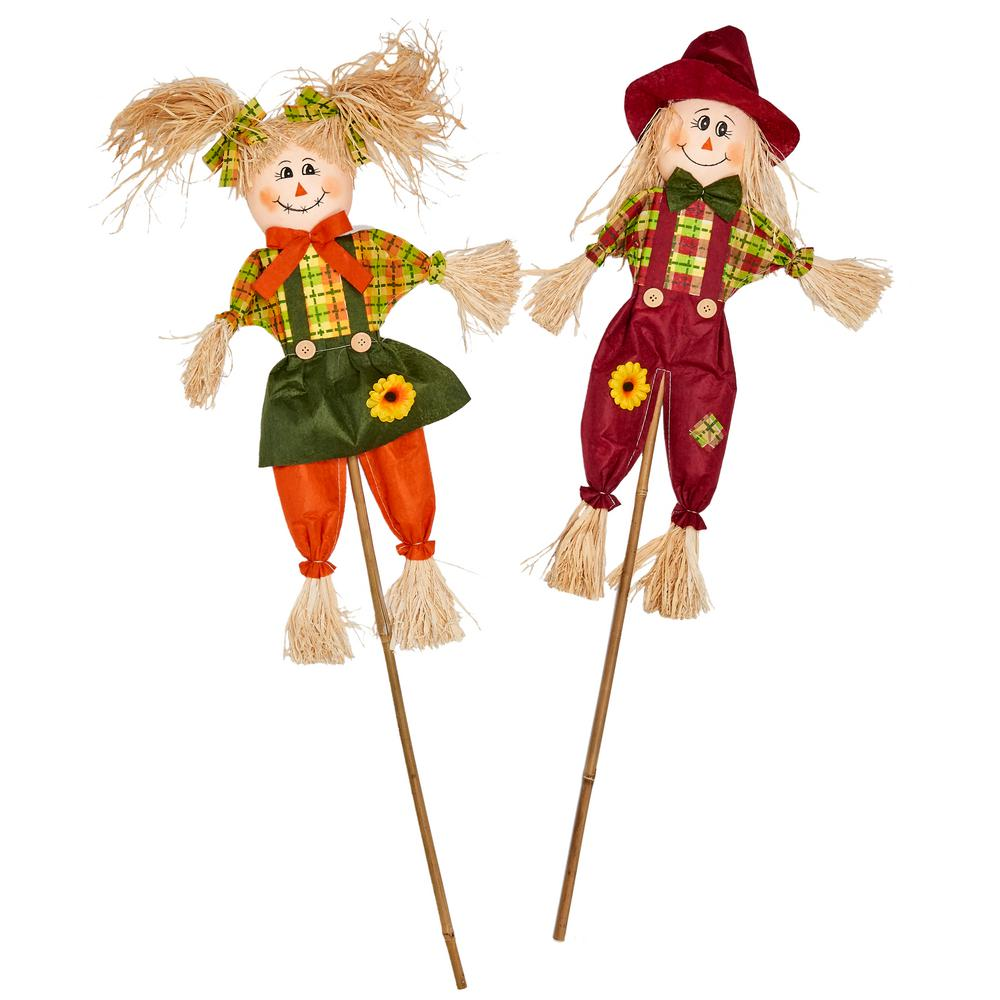person-like: (100, 22, 526, 675), (527, 16, 893, 627)
